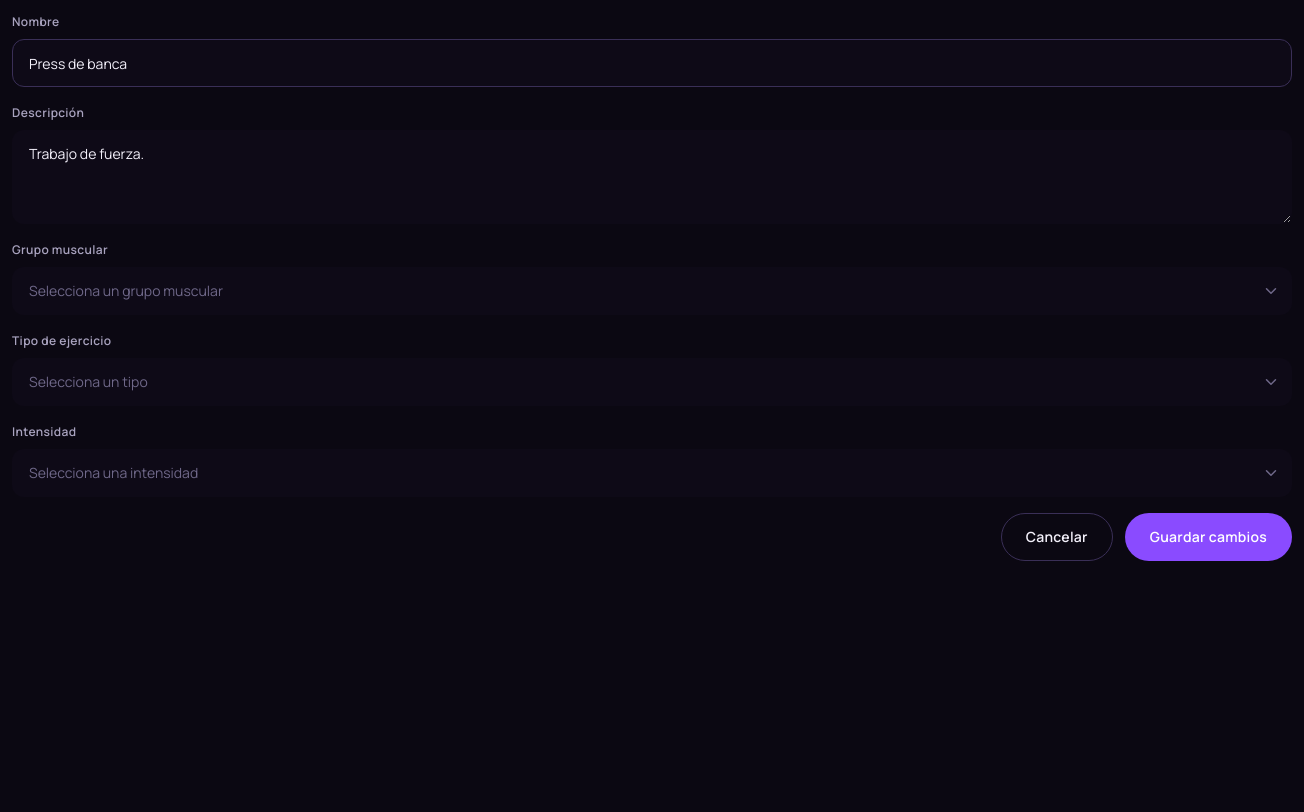
Scenario: ExerciseForm › validates the three required fields
The width and height of the screenshot is (1304, 812).
Click the button "Guardar cambios" at (1208, 537), box [1125,513,1292,561]
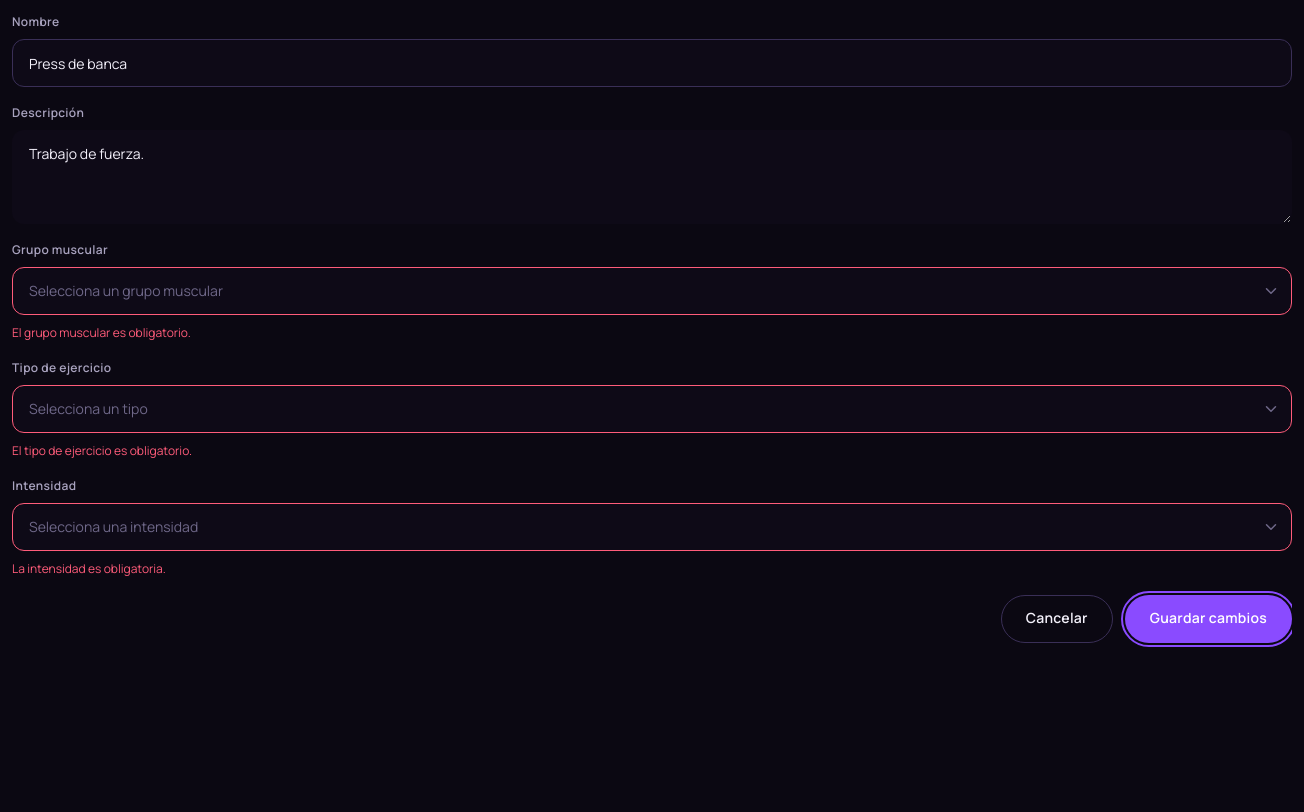
Check: the text "El grupo muscular es obligatorio." is shown, box [12,324,191,341]
Check: the text "El tipo de ejercicio es obligatorio." is shown, box [12,442,192,459]
Check: the text "La intensidad es obligatoria." is shown, box [12,560,166,578]
